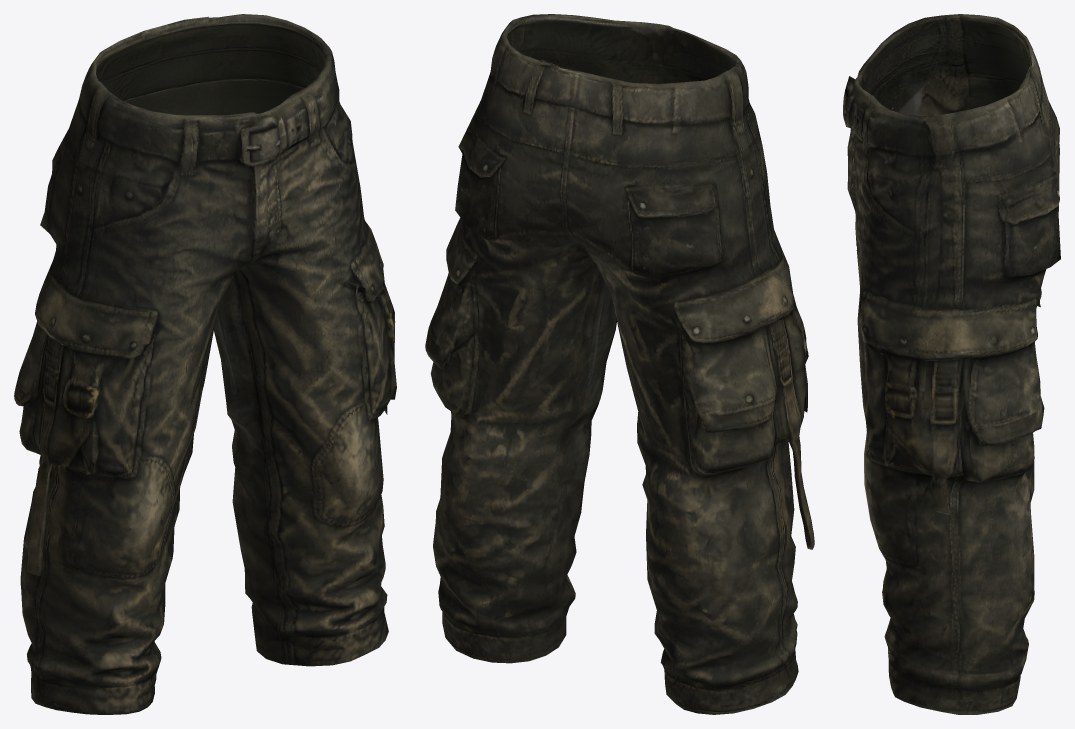
File: Meshy_AI_Mud_Covered_Cargo_Pan_0617221257_texture.glb
3 views of the same model, side by side, from view 1: azimuth 30°, elevation 25°; view 2: azimuth 150°, elevation 25°; view 3: azimuth 270°, elevation 25° (orthographic). The views are drawn at different scales.
Parts seen in each view (by area): view 1: Mesh_0; view 2: Mesh_0; view 3: Mesh_0.
Boxes of the visible parts, x1,y1,x2,y2 form: Mesh_0: [14, 14, 396, 714]; Mesh_0: [425, 14, 814, 714]; Mesh_0: [843, 14, 1060, 714].
Size of the model in its own units: 1.17 by 1.91 by 0.6381.
Materials: 1 (1 with a texture image).
